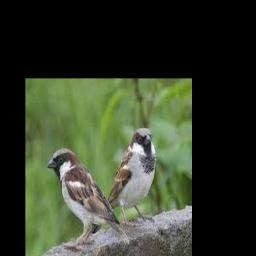Sparrow: (47, 147, 131, 246), (90, 127, 156, 233)
